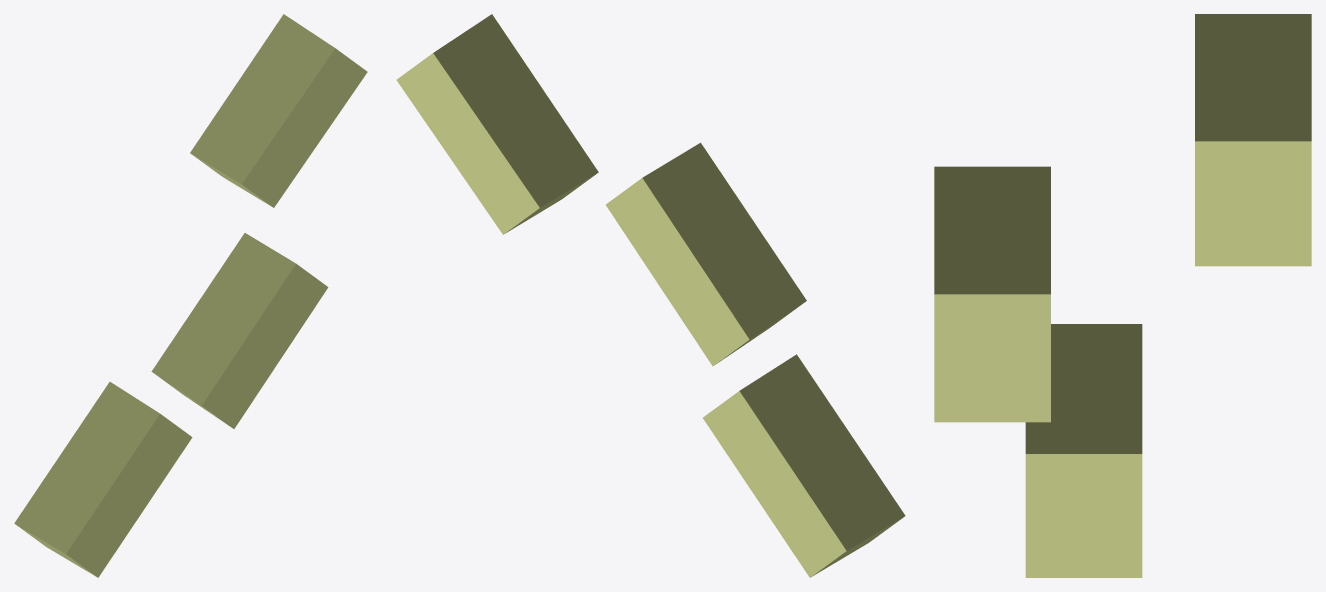
The picture shows the model from 3 angles, left to right: view 1: azimuth 30°, elevation 25°; view 2: azimuth 150°, elevation 25°; view 3: azimuth 270°, elevation 25°; orthographic projection. The views are drawn at different scales.
Visible parts, largest first — view 1: 0_0_1_1_3_3_2_2_3; view 2: 0_0_1_1_3_3_2_2_3; view 3: 0_0_1_1_3_3_2_2_3.
Boxes of the visible parts, x1,y1,x2,y2 form: 0_0_1_1_3_3_2_2_3: (14, 14, 367, 577); 0_0_1_1_3_3_2_2_3: (396, 14, 905, 577); 0_0_1_1_3_3_2_2_3: (934, 14, 1311, 577).
Bounding box in the file's own units: 39.45 × 45.2 × 19.4.
